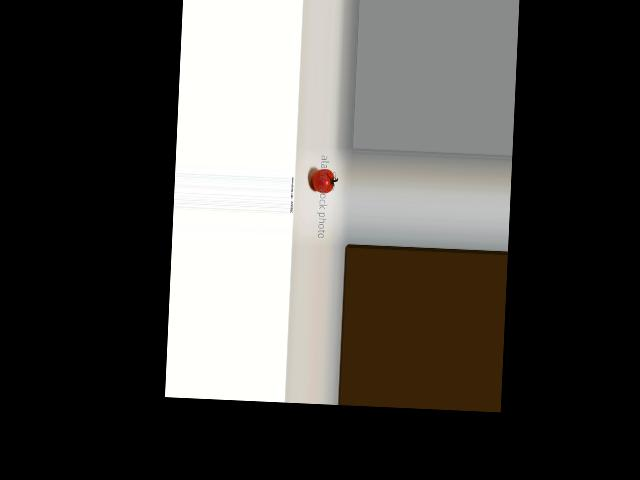tomato: (311, 168, 334, 194)
